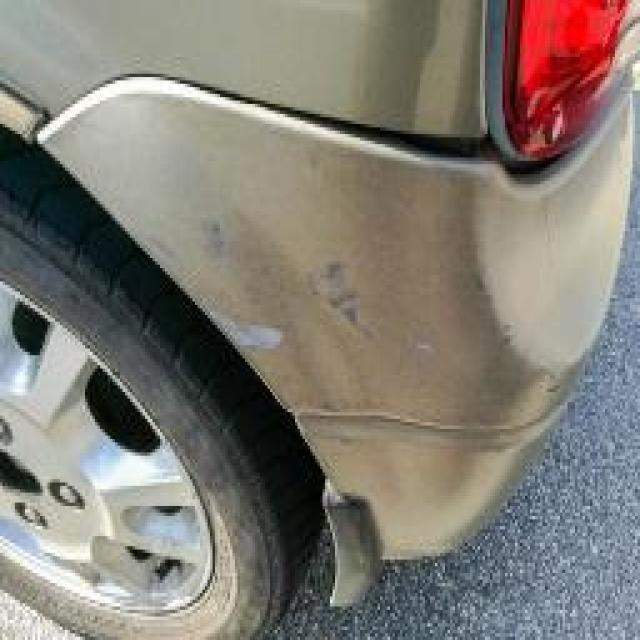Bumper: (200, 168, 408, 476)
